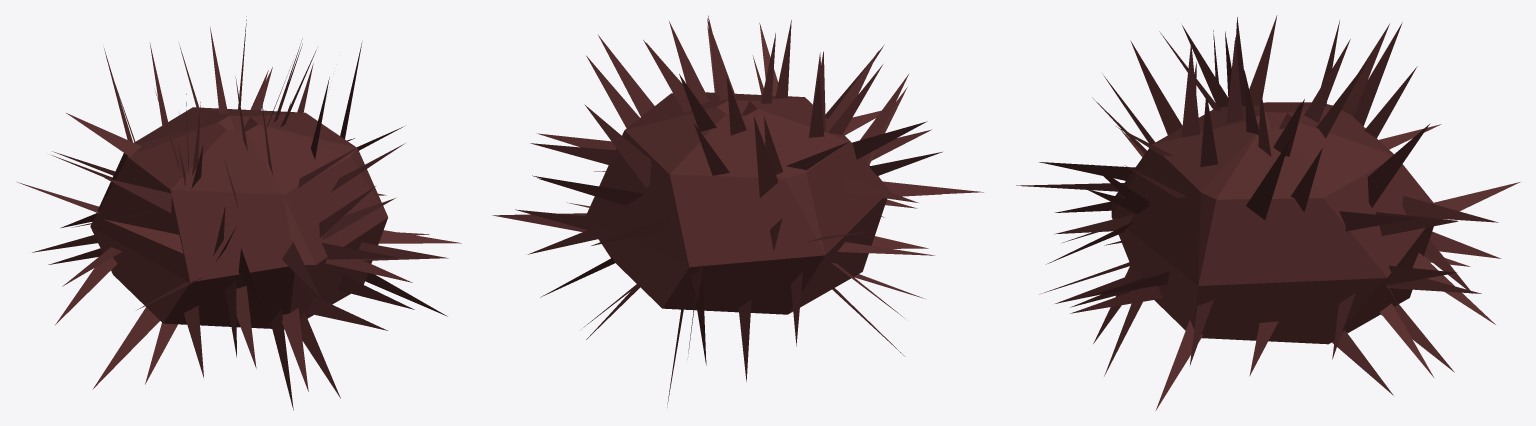
Rendered from zone3-c21.glb.
3 renders of one model, left to right at view 1: azimuth 30°, elevation 25°; view 2: azimuth 150°, elevation 25°; view 3: azimuth 270°, elevation 25°, orthographic. The views are drawn at different scales.
Visible parts, largest first — view 1: seaurchin-mature-a.001; view 2: seaurchin-mature-a.001; view 3: seaurchin-mature-a.001.
Part boxes in pixels (<box>): seaurchin-mature-a.001: <box>17,16,461,410</box>; seaurchin-mature-a.001: <box>492,15,983,407</box>; seaurchin-mature-a.001: <box>1016,15,1520,410</box>.
Bounding box in the file's own units: 33.77 × 26.63 × 36.63.
